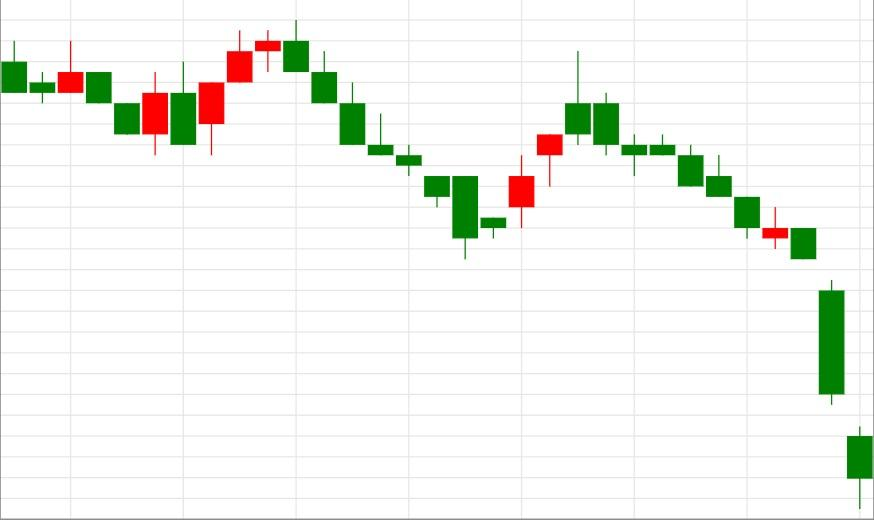shooting_star_fall: (453, 50, 592, 257)
three_black_crows_fall: (170, 19, 366, 156)
